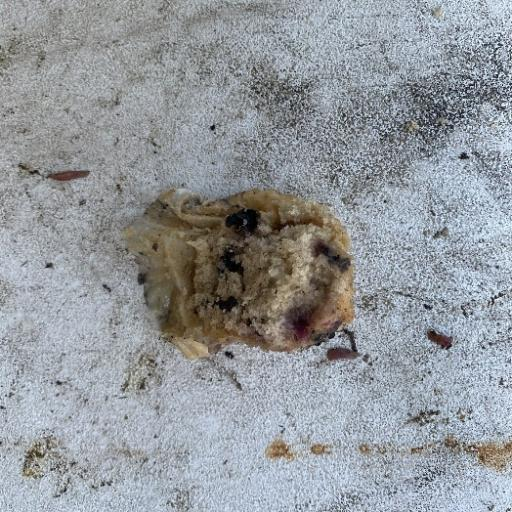Waste: (118, 184, 357, 360)
